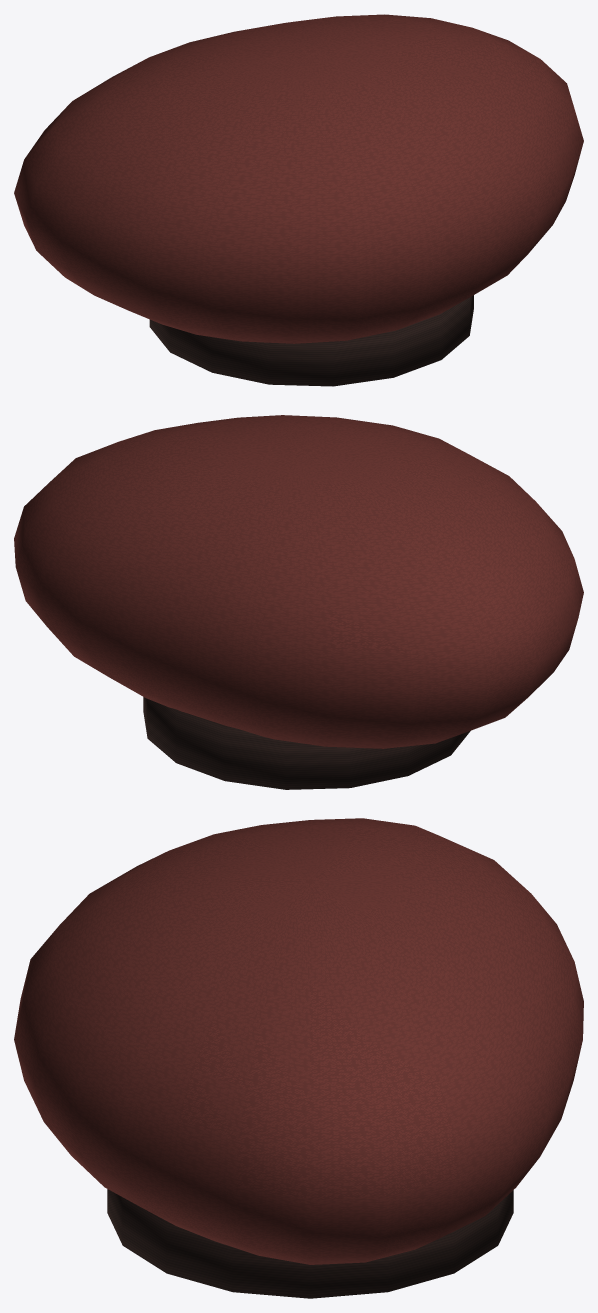
The model's file is ottoman.glb.
3 views of the same model, one above another, from view 1: azimuth 30°, elevation 25°; view 2: azimuth 150°, elevation 25°; view 3: azimuth 270°, elevation 25° (orthographic). The views are drawn at different scales.
Parts seen in each view (by area): view 1: Irregular oval ottoman, Hidden ottoman base; view 2: Irregular oval ottoman, Hidden ottoman base; view 3: Irregular oval ottoman, Hidden ottoman base.
Boxes of the visible parts, x1=… form: Irregular oval ottoman: x1=14, y1=14, x2=583, y2=343; Hidden ottoman base: x1=149, y1=295, x2=473, y2=386; Irregular oval ottoman: x1=14, y1=415, x2=583, y2=748; Hidden ottoman base: x1=143, y1=697, x2=470, y2=789; Irregular oval ottoman: x1=14, y1=818, x2=583, y2=1264; Hidden ottoman base: x1=107, y1=1189, x2=513, y2=1298.
Size of the model in its own units: 0.917 by 0.45 by 0.7012.
2 materials, 2 textured.
